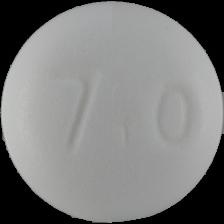42291-104: (0, 0, 224, 224)
